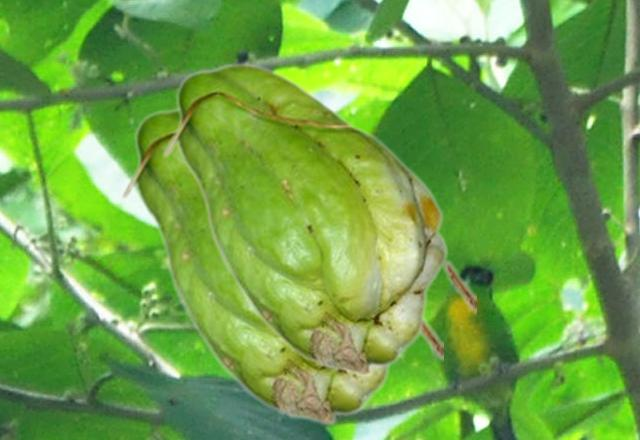sayote: (119, 107, 442, 425), (161, 62, 475, 376)
